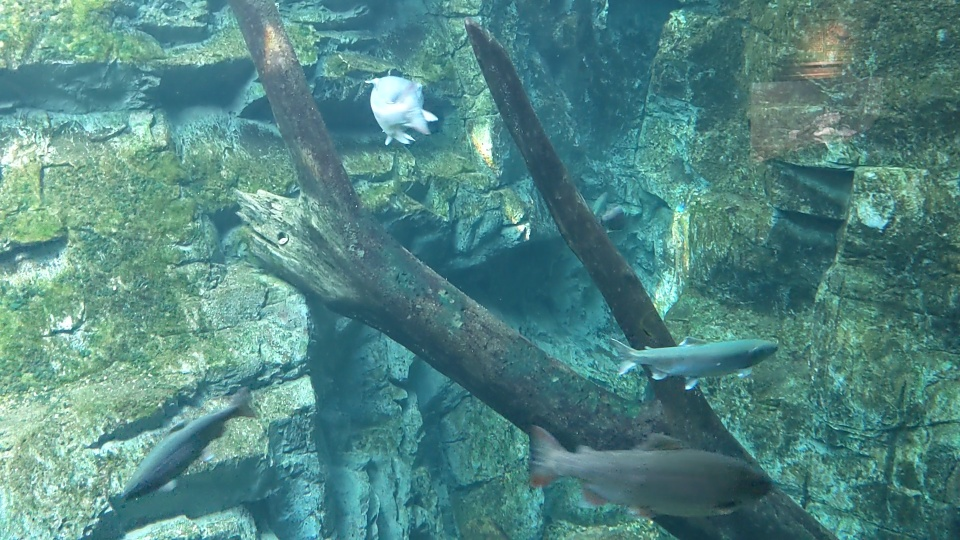Fish: (529, 424, 772, 520), (124, 383, 259, 505), (605, 328, 783, 395), (370, 68, 435, 148), (596, 202, 628, 235)
